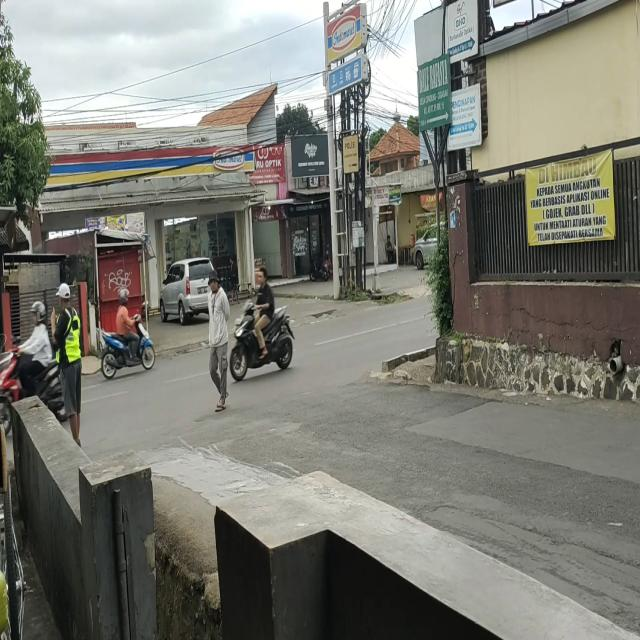helmet: (31, 300, 47, 323), (119, 287, 129, 306)
no-helmet: (257, 268, 268, 288)
